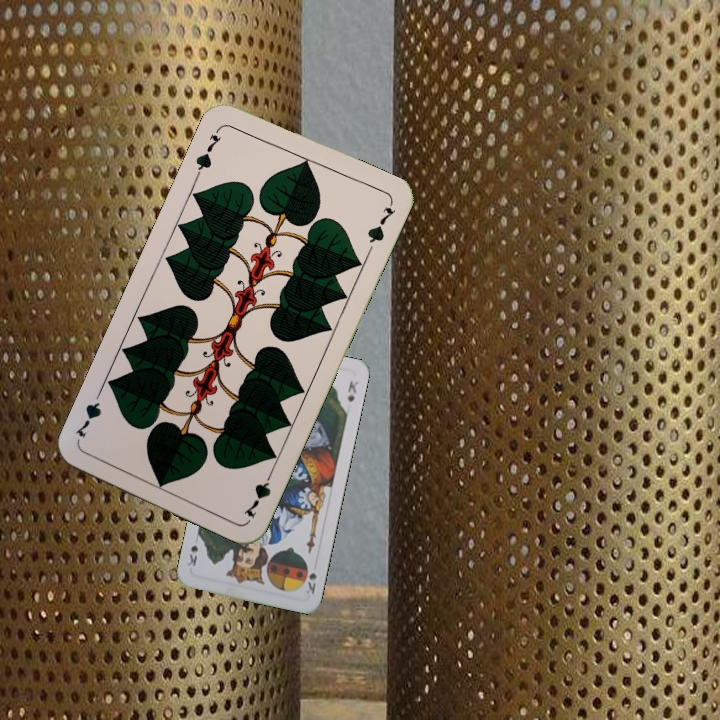G7: (239, 465, 276, 520), (191, 129, 225, 179)
SK: (300, 563, 319, 597)
